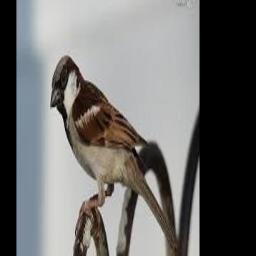Sparrow: (51, 56, 178, 253)
